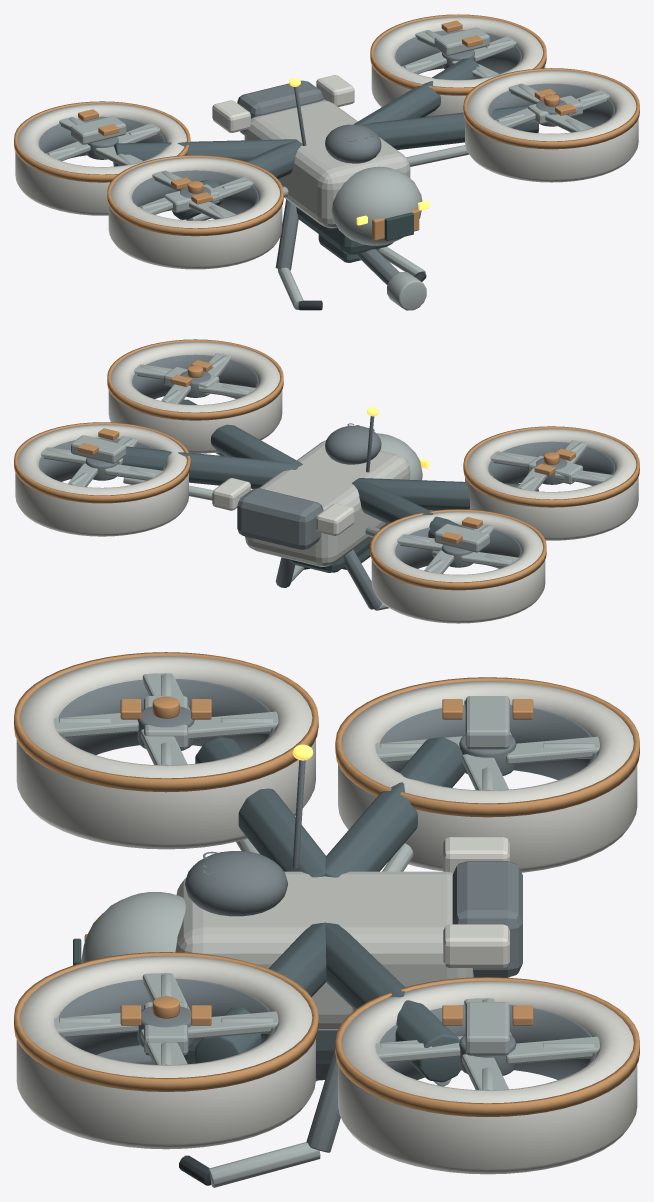
Rendered from gull.glb.
The picture shows the model from 3 angles, top to bottom: view 1: azimuth 30°, elevation 25°; view 2: azimuth 150°, elevation 25°; view 3: azimuth 270°, elevation 25°; orthographic projection. The views are drawn at different scales.
Visible parts, largest first — view 1: Render_VisualRoot_Anodized_frame, Render_VisualRoot_Brushed_titanium, Cream ceramic fan guard -1 0, Cream ceramic fan guard 1 0, Tapered central body, Cream ceramic fan guard -1 1, Render_VisualRoot_Cast_grey_metal, Cream ceramic fan guard 1 1, Orange wear stripe upper 1 0, Orange wear stripe upper -1 0, Render_Duct_-1_0_Cast_grey_metal, Render_VisualRoot_Warning_ochre (+11 smaller); view 2: Render_VisualRoot_Anodized_frame, Cream ceramic fan guard -1 1, Cream ceramic fan guard 1 1, Cream ceramic fan guard -1 0, Cream ceramic fan guard 1 0, Tapered central body, Render_VisualRoot_Cast_grey_metal, Render_VisualRoot_Brushed_titanium, Orange wear stripe upper 1 0, Orange wear stripe upper -1 0, Orange wear stripe upper 1 1, Orange wear stripe upper -1 1 (+10 smaller); view 3: Cream ceramic fan guard 1 0, Cream ceramic fan guard 1 1, Cream ceramic fan guard -1 0, Cream ceramic fan guard -1 1, Render_VisualRoot_Anodized_frame, Tapered central body, Render_VisualRoot_Brushed_titanium, Render_VisualRoot_Cast_grey_metal, Orange wear stripe upper 1 0, Orange wear stripe upper 1 1, Orange wear stripe upper -1 0, Orange wear stripe upper -1 1 (+17 smaller).
Part boxes in pixels (x1,y1,x2,y2): Render_VisualRoot_Anodized_frame: (113,58,538,262); Render_VisualRoot_Brushed_titanium: (71,27,582,310); Cream ceramic fan guard -1 0: (108,157,282,269); Cream ceramic fan guard 1 0: (465,70,638,182); Tapered central body: (244,100,410,228); Cream ceramic fan guard -1 1: (15,103,186,215); Render_VisualRoot_Cast_grey_metal: (237,80,399,285); Cream ceramic fan guard 1 1: (371,16,545,116); Orange wear stripe upper 1 0: (463,68,639,149); Orange wear stripe upper -1 0: (107,155,283,236); Render_Duct_-1_0_Cast_grey_metal: (132,170,258,214); Render_VisualRoot_Warning_ochre: (78,20,575,240); Render_VisualRoot_Anodized_frame: (121,399,538,572); Cream ceramic fan guard -1 1: (371,511,545,623); Cream ceramic fan guard 1 1: (15,424,188,536); Cream ceramic fan guard -1 0: (465,428,638,540); Cream ceramic fan guard 1 0: (108,341,282,453); Tapered central body: (245,440,410,566); Render_VisualRoot_Cast_grey_metal: (237,416,382,609); Render_VisualRoot_Brushed_titanium: (71,367,582,610); Orange wear stripe upper 1 0: (107,339,283,420); Orange wear stripe upper -1 0: (463,426,639,507); Orange wear stripe upper 1 1: (14,422,190,503); Orange wear stripe upper -1 1: (370,509,546,590); Cream ceramic fan guard 1 0: (16,955,315,1149); Cream ceramic fan guard 1 1: (338,981,637,1174); Cream ceramic fan guard -1 0: (16,656,315,849); Cream ceramic fan guard -1 1: (338,681,637,872); Render_VisualRoot_Anodized_frame: (184,737,464,1082); Tapered central body: (175,871,473,1030); Render_VisualRoot_Brushed_titanium: (81,696,509,1187); Render_VisualRoot_Cast_grey_metal: (96,760,522,1152); Orange wear stripe upper 1 0: (14,952,318,1091); Orange wear stripe upper 1 1: (335,977,639,1116); Orange wear stripe upper -1 0: (14,652,318,792); Orange wear stripe upper -1 1: (335,677,639,817).
Size of the model in its own units: 2.74 by 1.07 by 1.69.
